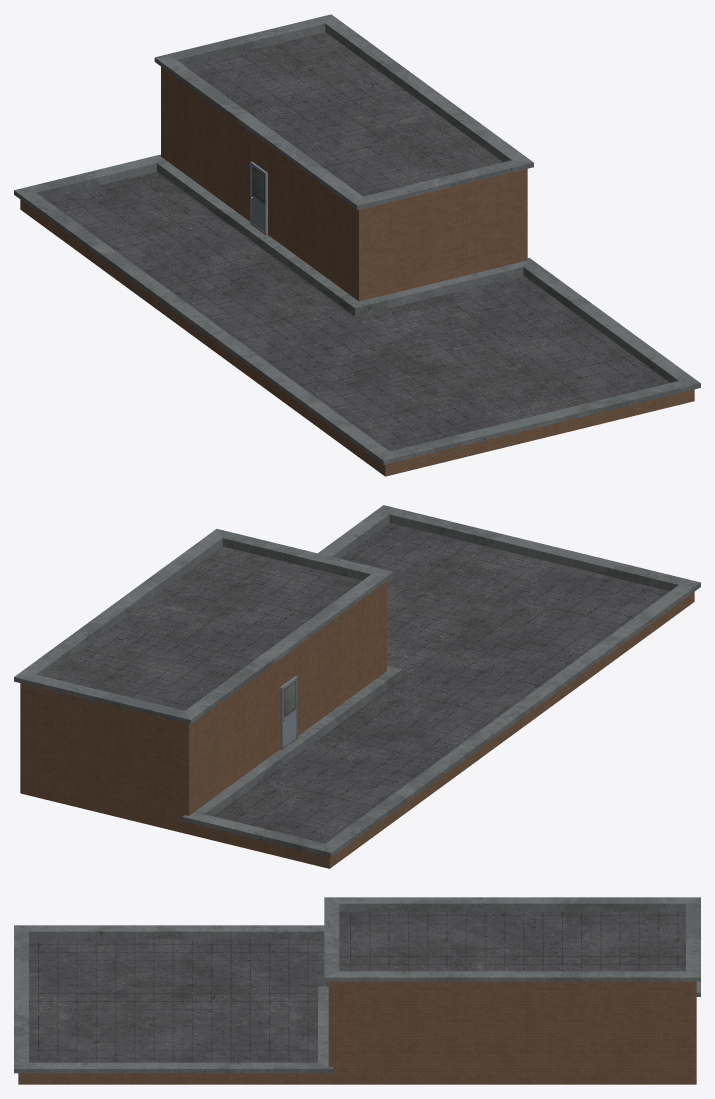
File: jctBld24_12D_top.fbx
The picture shows the model from 3 angles, top to bottom: view 1: azimuth 30°, elevation 25°; view 2: azimuth 150°, elevation 25°; view 3: azimuth 270°, elevation 25°; orthographic projection. The views are drawn at different scales.
Visible parts, largest first — view 1: jctBld24_12D_top; view 2: jctBld24_12D_top; view 3: jctBld24_12D_top.
Boxes of the visible parts, box(x1,y1,x2,y2) form: jctBld24_12D_top: box(14, 14, 700, 476); jctBld24_12D_top: box(14, 505, 700, 868); jctBld24_12D_top: box(14, 897, 700, 1084).
Bounding box in the file's own units: 1180 × 416 × 2380.
